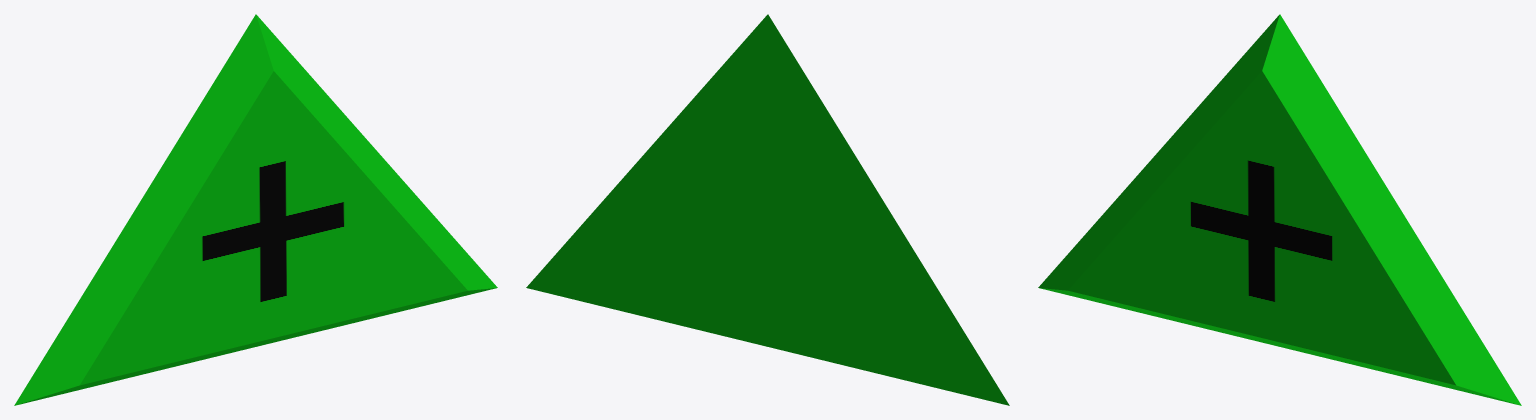
The model's file is PlusButton.fbx.
The picture shows the model from 3 angles, left to right: view 1: azimuth 30°, elevation 25°; view 2: azimuth 150°, elevation 25°; view 3: azimuth 330°, elevation 25°; orthographic projection.
Visible parts, largest first — view 1: Plus; view 2: Plus; view 3: Plus.
Part boxes in pixels (x1,y1,x2,y2): Plus: [14, 14, 497, 405]; Plus: [526, 14, 1009, 405]; Plus: [1038, 14, 1521, 405].
Bounding box in the file's own units: 332 × 218 × 21.17.
Materials: 1 (1 with a texture image).
